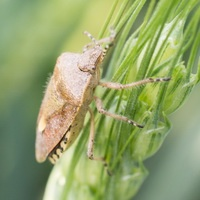insect: (35, 28, 170, 163)
